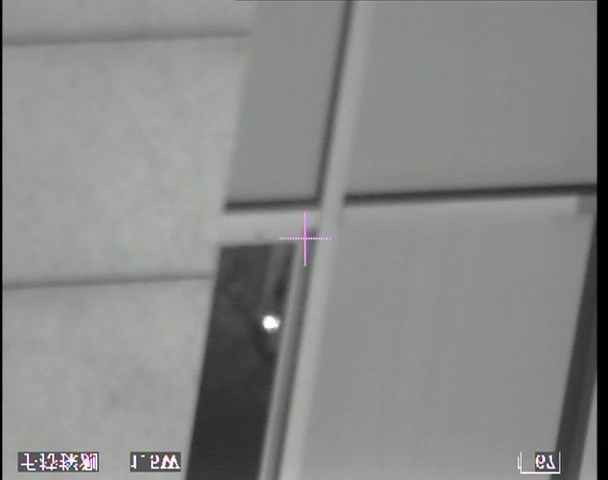my: (262, 314, 280, 330)
